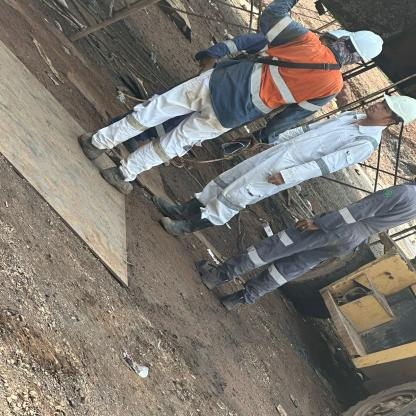bota: (159, 210, 212, 242), (155, 190, 207, 221), (76, 127, 109, 161), (102, 165, 136, 197), (197, 258, 229, 289), (219, 289, 244, 313)
